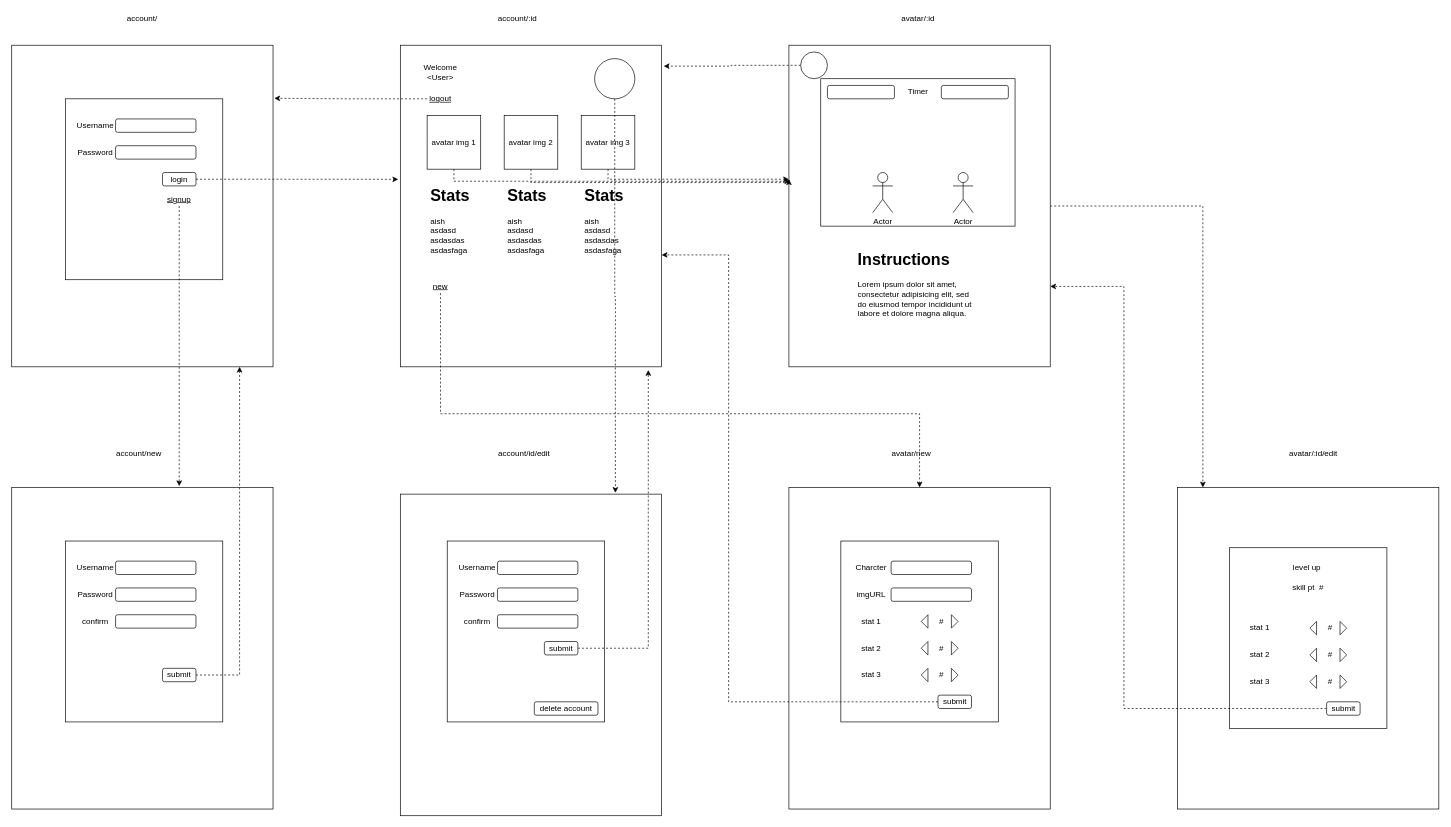
The diagram is 1451 pixels wide and 827 high, and some of its shapes have lost their labels. The shapes that lost their labels are listed below. From the top down, each one's box as (x1, y1, x2, y2) in pixels, then its label:
(594, 58, 635, 99): Account settings
(800, 51, 827, 79): back
